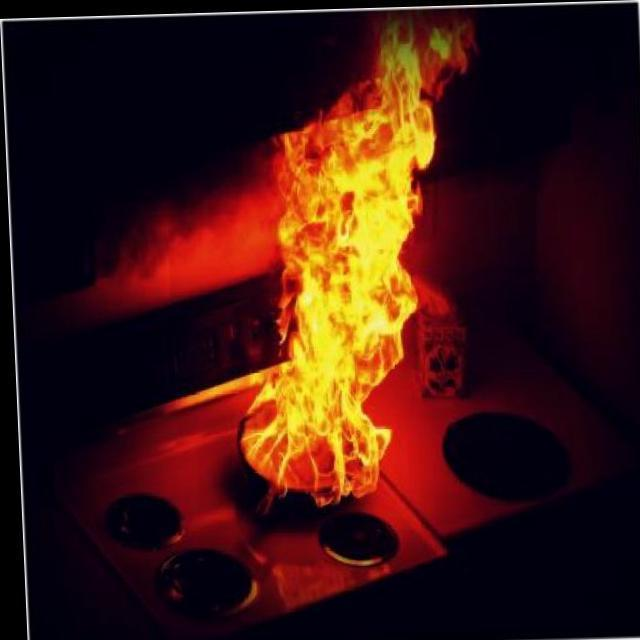Fire: (185, 4, 486, 527)
Smoke: (2, 0, 640, 318)
